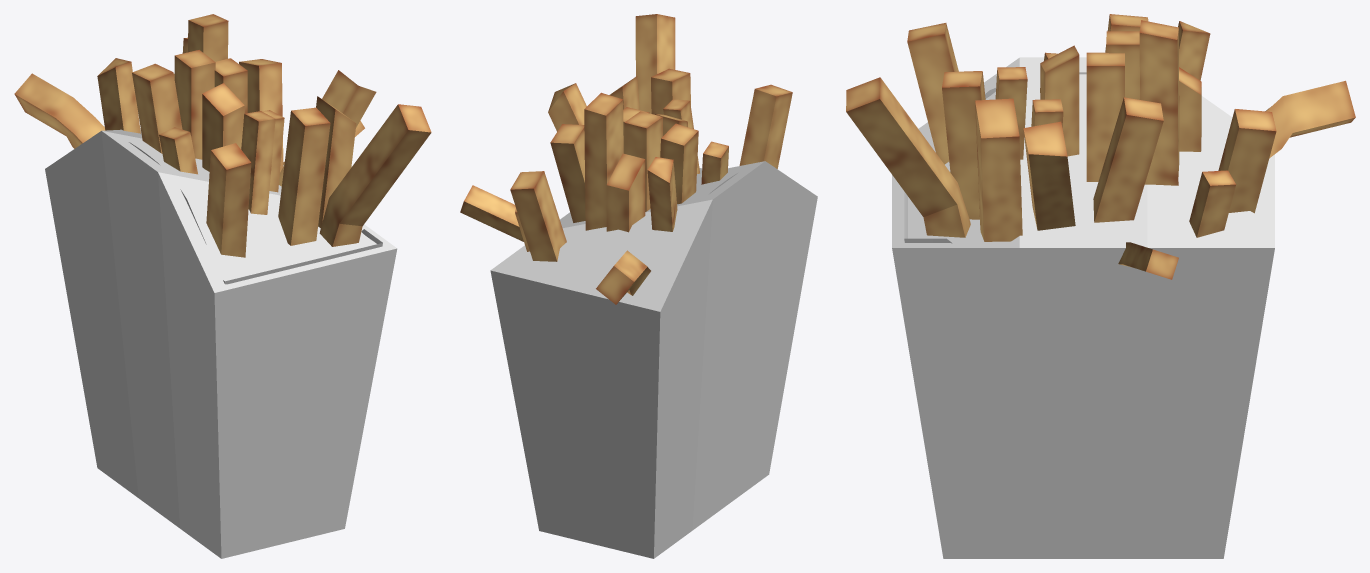
File: fries.fbx
3 renders of one model, left to right at view 1: azimuth 30°, elevation 25°; view 2: azimuth 150°, elevation 25°; view 3: azimuth 270°, elevation 25°, orthographic. The views are drawn at different scales.
Visible parts, largest first — view 1: fries.cols, fries.lod0; view 2: fries.cols, fries.lod0; view 3: fries.cols, fries.lod0.
Boxes of the visible parts, x1,y1,x2,y2 form: fries.cols: [45, 129, 397, 558]; fries.lod0: [14, 14, 431, 284]; fries.cols: [490, 161, 817, 558]; fries.lod0: [460, 14, 792, 304]; fries.cols: [892, 57, 1274, 558]; fries.lod0: [846, 14, 1355, 279].
Size of what is drawn, in the model's own units: 190 by 312 by 281.
